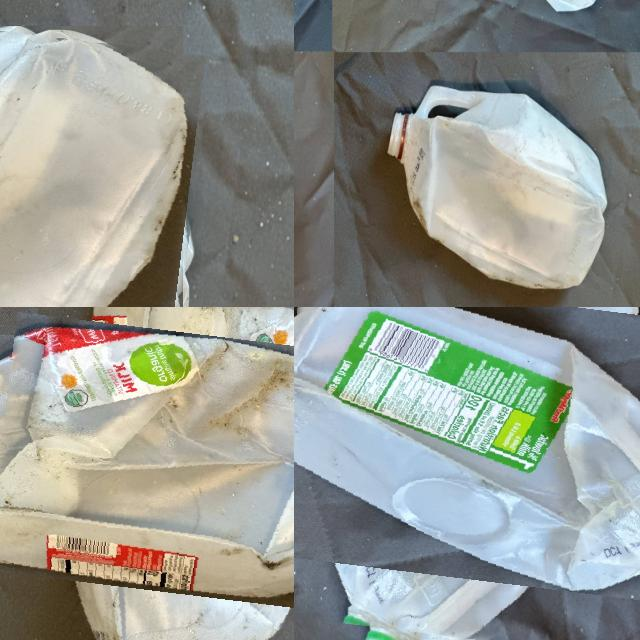milk-jug: (294, 307, 640, 640), (0, 307, 294, 640), (0, 19, 199, 307), (392, 84, 606, 292)
